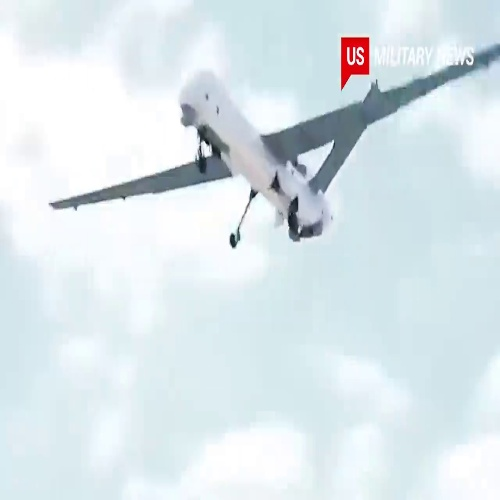uav: (49, 45, 498, 252)
